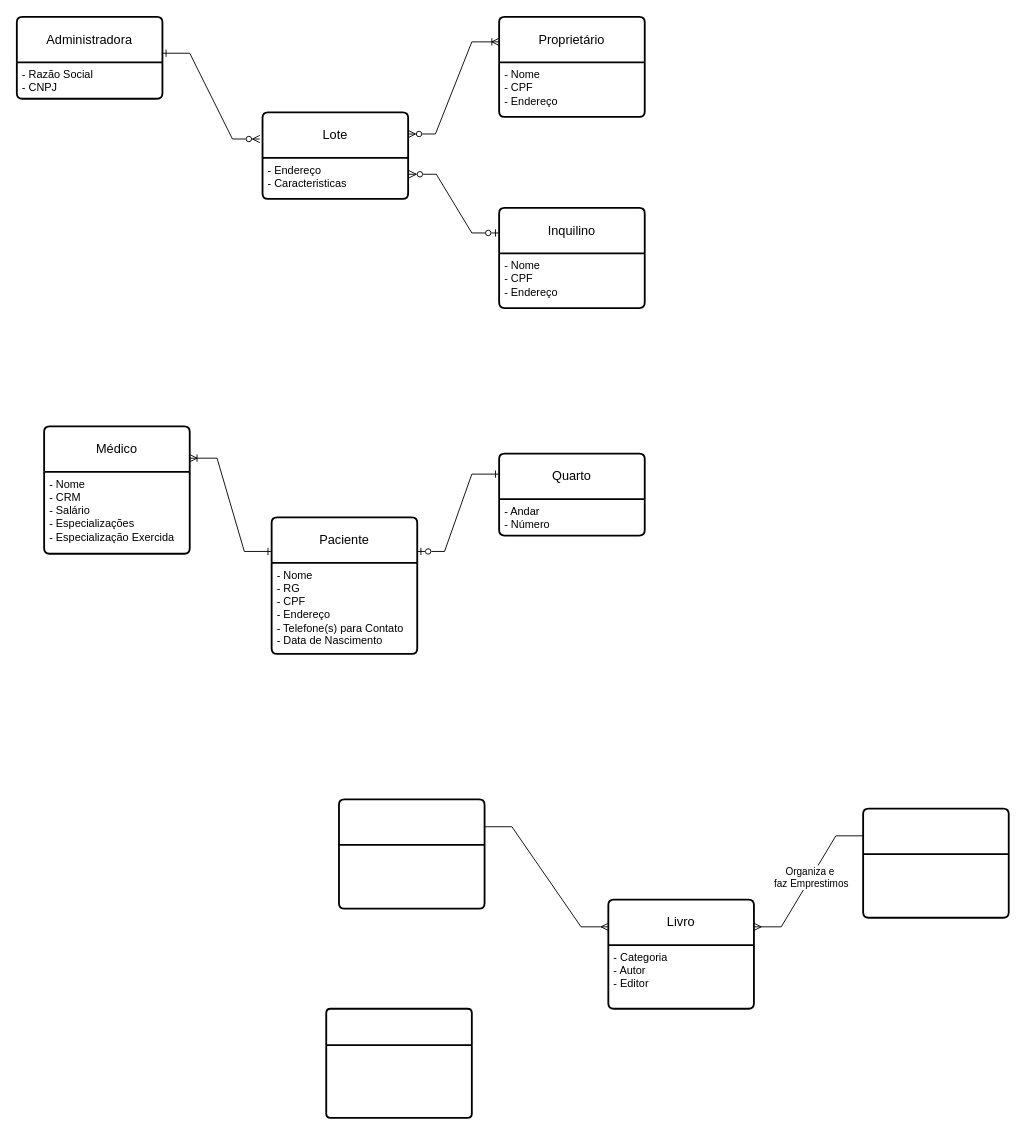
Image size: 1025x1134. Some labels were removed from this diagram. The shapes that lost their labels are listed below. From the top down, each one's centre as x and y in pixels, then its label:
At (411,853): "Biblioteca".
At (935,862): "Bibliotecária".
